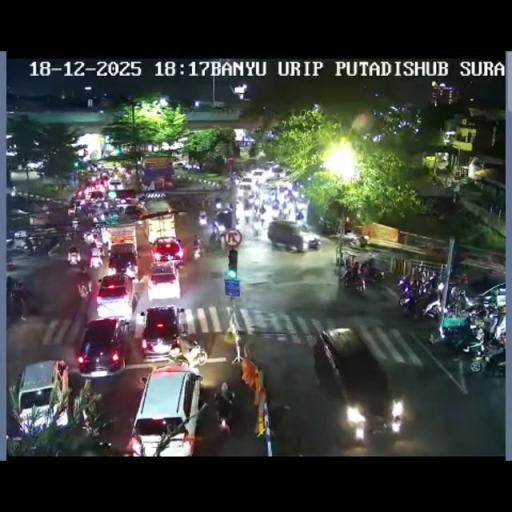Car: (315, 327, 401, 442), (126, 364, 200, 454), (14, 360, 70, 435), (76, 316, 130, 378), (138, 304, 185, 360), (267, 219, 322, 252), (95, 274, 135, 319), (146, 261, 182, 302), (107, 242, 139, 278), (150, 236, 185, 266), (112, 188, 138, 209), (122, 204, 142, 217), (248, 169, 266, 183), (238, 182, 252, 198), (88, 190, 104, 200), (172, 160, 188, 169), (108, 178, 122, 187), (198, 212, 207, 226), (214, 196, 223, 210), (264, 161, 275, 171)
Motorcycle: (464, 327, 504, 374), (398, 278, 440, 318), (265, 401, 294, 452), (6, 285, 27, 319), (464, 299, 489, 321), (216, 403, 233, 435), (360, 262, 384, 284), (486, 287, 502, 319), (75, 270, 92, 298), (90, 438, 114, 454), (449, 284, 468, 304), (317, 216, 336, 234), (89, 244, 102, 270), (348, 232, 369, 248), (176, 306, 188, 334), (341, 266, 356, 287), (77, 208, 94, 225), (208, 232, 223, 250), (451, 272, 468, 287), (66, 249, 80, 266), (259, 207, 271, 226), (83, 230, 97, 246), (192, 240, 203, 260), (101, 236, 110, 258), (253, 198, 262, 216), (251, 220, 261, 236), (26, 242, 38, 255), (243, 196, 254, 210), (79, 260, 89, 274), (64, 230, 74, 244), (212, 219, 222, 233), (202, 197, 212, 211), (138, 374, 148, 388), (229, 171, 239, 184), (278, 203, 286, 219), (295, 210, 304, 222), (6, 236, 15, 248), (244, 212, 251, 226), (272, 199, 279, 212), (72, 218, 78, 232), (117, 205, 125, 215)
